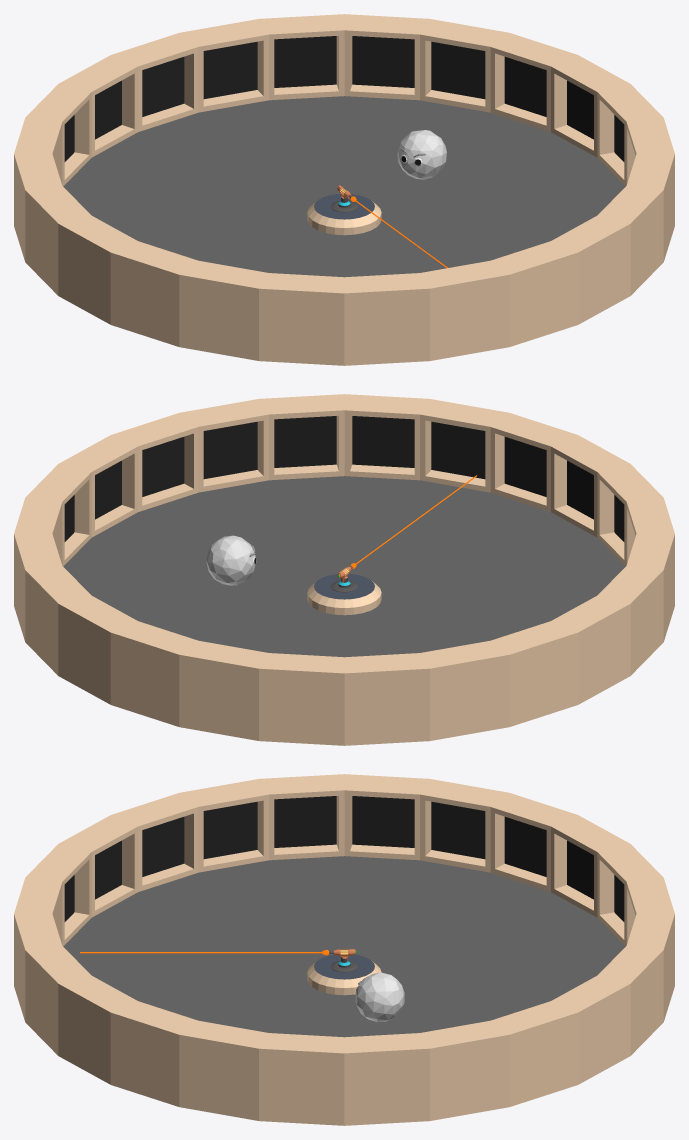
The model's file is tps_shooter.fbx.
3 views of the same model, one above another, from view 1: azimuth 30°, elevation 25°; view 2: azimuth 150°, elevation 25°; view 3: azimuth 270°, elevation 25° (orthographic).
Parts seen in each view (by area): view 1: arena, arena.002, arena.001, dış küre.001, arena.003; view 2: arena, arena.002, arena.001, dış küre.001, arena.003; view 3: arena, arena.002, arena.001, dış küre.001, arena.003.
Part boxes in pixels (x1,y1,x2,y2): arena: [14, 14, 674, 365]; arena.002: [63, 96, 625, 277]; arena.001: [64, 36, 624, 161]; dış küre.001: [397, 130, 446, 179]; arena.003: [314, 194, 374, 219]; arena: [14, 394, 674, 745]; arena.002: [63, 476, 625, 657]; arena.001: [64, 416, 624, 541]; dış küre.001: [206, 535, 256, 585]; arena.003: [314, 574, 374, 599]; arena: [14, 774, 674, 1125]; arena.002: [63, 856, 625, 1037]; arena.001: [64, 796, 624, 921]; dış küre.001: [355, 972, 404, 1022]; arena.003: [314, 954, 374, 979].
Size of the model in its own units: 200 by 24.18 by 200.
